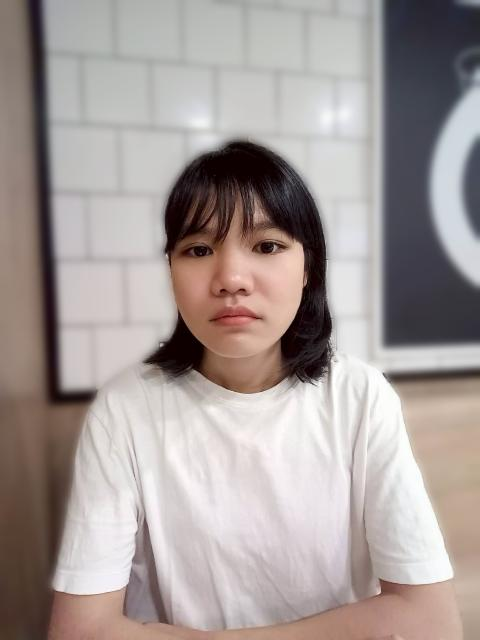fokus: (172, 168, 312, 356)
